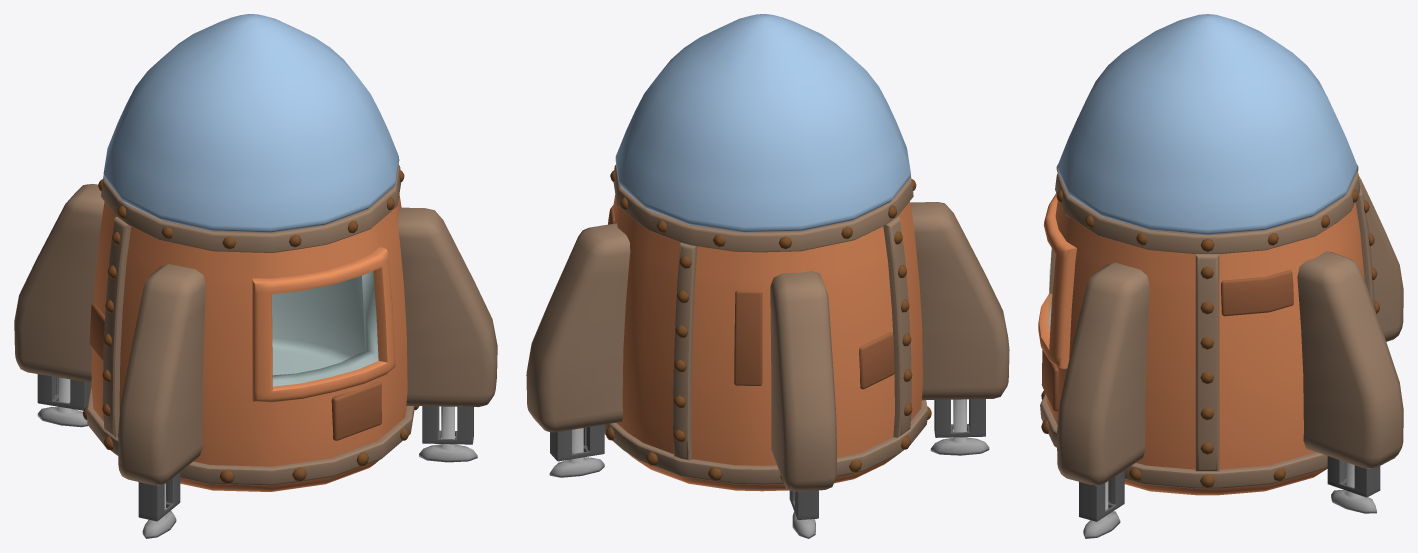
File: m_SpaceShipTexturedRevision.fbx
The picture shows the model from 3 angles, left to right: view 1: azimuth 30°, elevation 25°; view 2: azimuth 150°, elevation 25°; view 3: azimuth 270°, elevation 25°; orthographic projection.
Parts seen in each view (by area): view 1: Ship Body, Ship Nose, Wing, Wing.001, Cylinder, Leg, Panel.002, Landing Feet, Leg.001, Landing Feet.001, Top Band Rivets, Bottom Band Rivets (+1 smaller); view 2: Ship Body, Ship Nose, Wing.001, Wing, Panel, Leg.001, Landing Feet.001, Panel.001, Leg, Landing Feet, Top Band Rivets, Bottom Band Rivets; view 3: Ship Body, Ship Nose, Wing.001, Wing, Panel.003, Leg, Leg.001, Landing Feet.001, Panel.002, Top Band Rivets, Landing Feet, Bottom Band Rivets.
Boxes of the visible parts, x1,y1,x2,y2 form: Ship Body: (86,164,414,491); Ship Nose: (103,14,399,232); Wing: (118,207,497,485); Wing.001: (14,184,104,382); Cylinder: (272,271,378,386); Leg: (138,406,473,521); Panel.002: (331,381,381,440); Landing Feet: (142,406,477,538); Leg.001: (37,374,90,410); Landing Feet.001: (37,377,87,427); Top Band Rivets: (98,170,404,249); Bottom Band Rivets: (82,406,419,483); Ship Body: (604,164,927,491); Ship Nose: (615,14,910,232); Wing.001: (526,223,836,491); Wing: (910,202,1009,400); Panel: (734,290,762,385); Leg.001: (550,424,818,519); Landing Feet.001: (549,428,815,538); Panel.001: (859,332,894,389); Leg: (934,399,985,437); Landing Feet: (930,399,989,455); Top Band Rivets: (610,170,916,249); Bottom Band Rivets: (606,406,931,481); Ship Body: (1038,171,1374,495); Ship Nose: (1057,14,1357,234); Wing.001: (1297,175,1403,468); Wing: (1057,262,1149,485); Panel.003: (1221,270,1293,316); Leg: (1079,470,1124,521); Leg.001: (1327,456,1380,497); Landing Feet.001: (1331,462,1376,513); Panel.002: (1041,350,1058,411); Top Band Rivets: (1056,165,1358,251); Landing Feet: (1083,481,1120,538); Bottom Band Rivets: (1041,390,1285,488).
Size of the model in its own units: 522 by 579 by 436.
